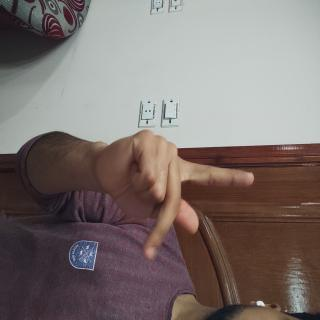DHAA: (95, 81, 198, 312)
